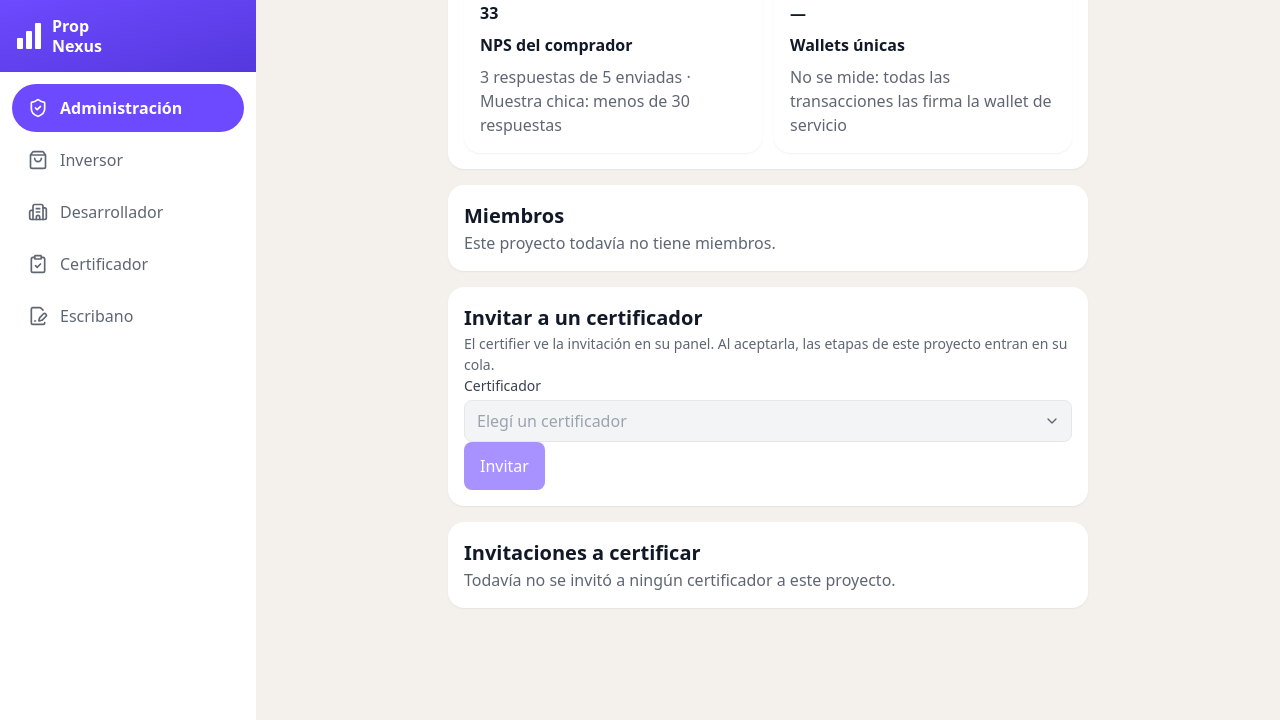
Test: /admin (invitar certificadores) › invita al certificador elegido, avisa y limpia la selección
(page scrolled)
Select "Cora" in the dropdown labelled "Certificador" at coordinates (768, 421), box [464,400,1072,442]
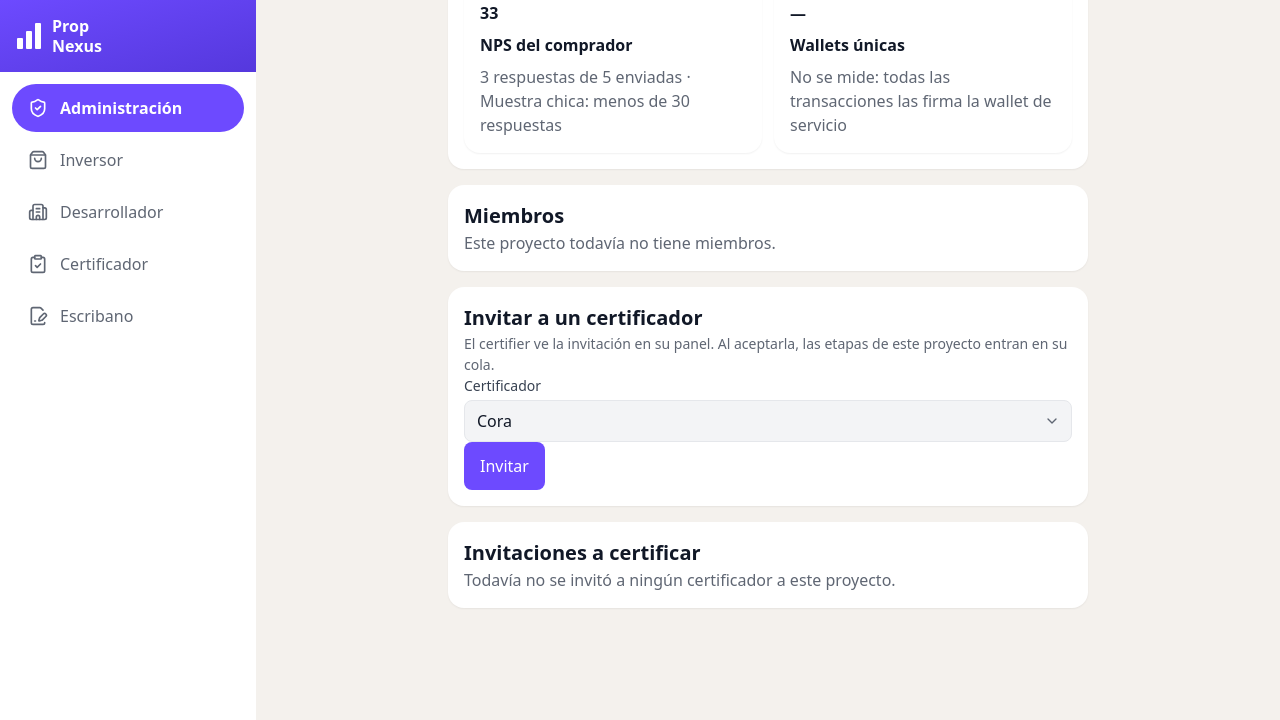
Click the button "Invitar" at coordinates (504, 466), box [464,442,545,490]
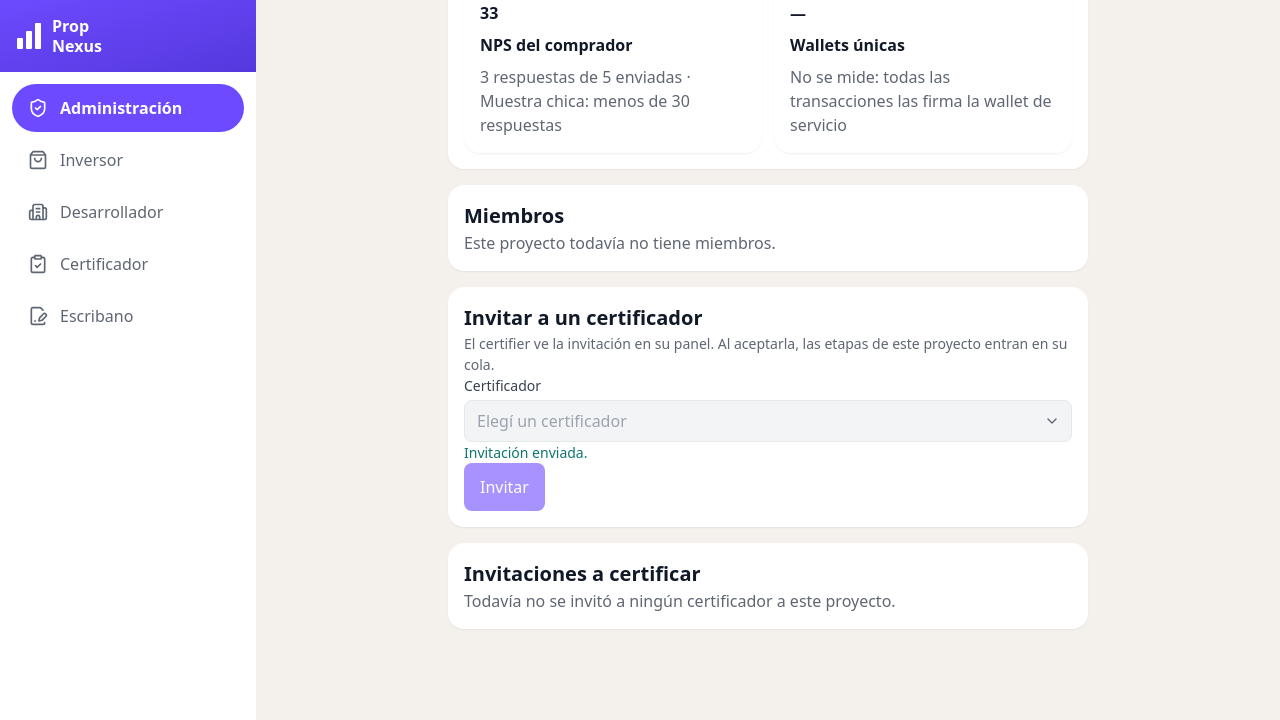
Now the text "Invitación enviada." is shown, box [464,443,588,462]
